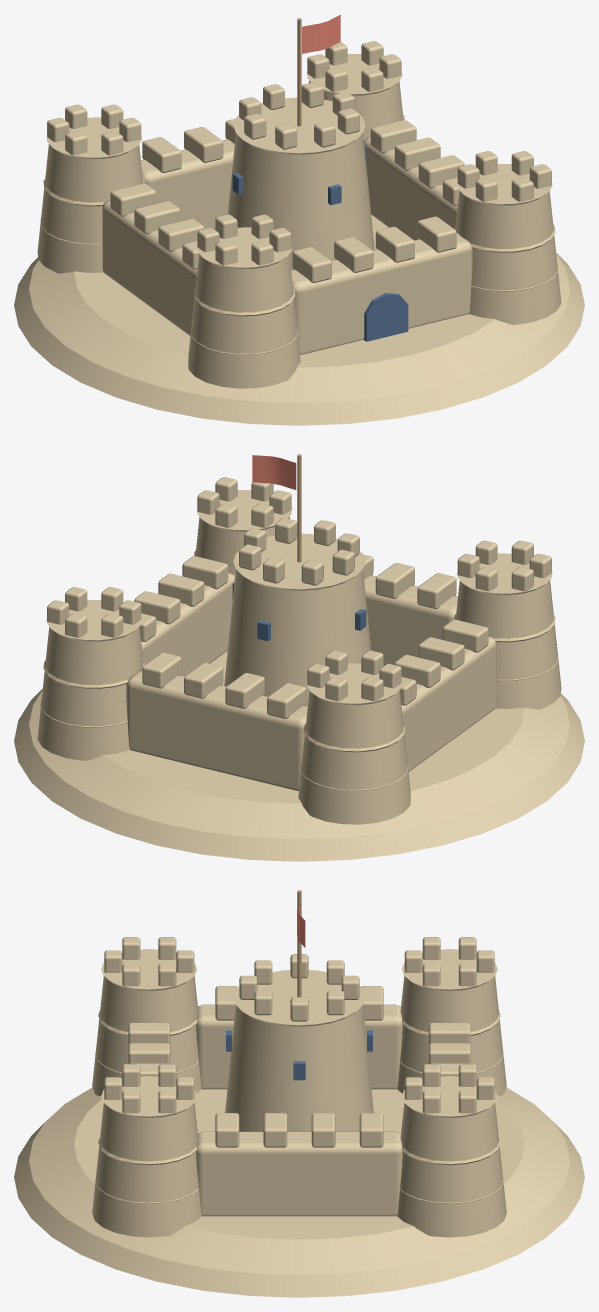
Rendered from beach-surf-and-paddle-kit-sand-castle-07e02ad1.glb.
3 views of the same model, one above another, from view 1: azimuth 30°, elevation 25°; view 2: azimuth 150°, elevation 25°; view 3: azimuth 270°, elevation 25° (orthographic).
Parts seen in each view (by area): view 1: sand-castle-sand, sand-castle-navy, sand-castle-coral, sand-castle-timber; view 2: sand-castle-sand, sand-castle-coral, sand-castle-timber, sand-castle-navy; view 3: sand-castle-sand, sand-castle-navy.
Part boxes in pixels (x1,y1,x2,y2): sand-castle-sand: [14, 41, 584, 425]; sand-castle-navy: [232, 146, 408, 341]; sand-castle-coral: [302, 14, 340, 53]; sand-castle-timber: [297, 18, 301, 126]; sand-castle-sand: [14, 477, 584, 861]; sand-castle-coral: [252, 455, 296, 489]; sand-castle-timber: [297, 454, 301, 562]; sand-castle-navy: [232, 582, 366, 641]; sand-castle-sand: [14, 937, 584, 1297]; sand-castle-navy: [226, 1030, 372, 1080].
Size of the model in its own units: 1.9 by 1.05 by 1.9.
